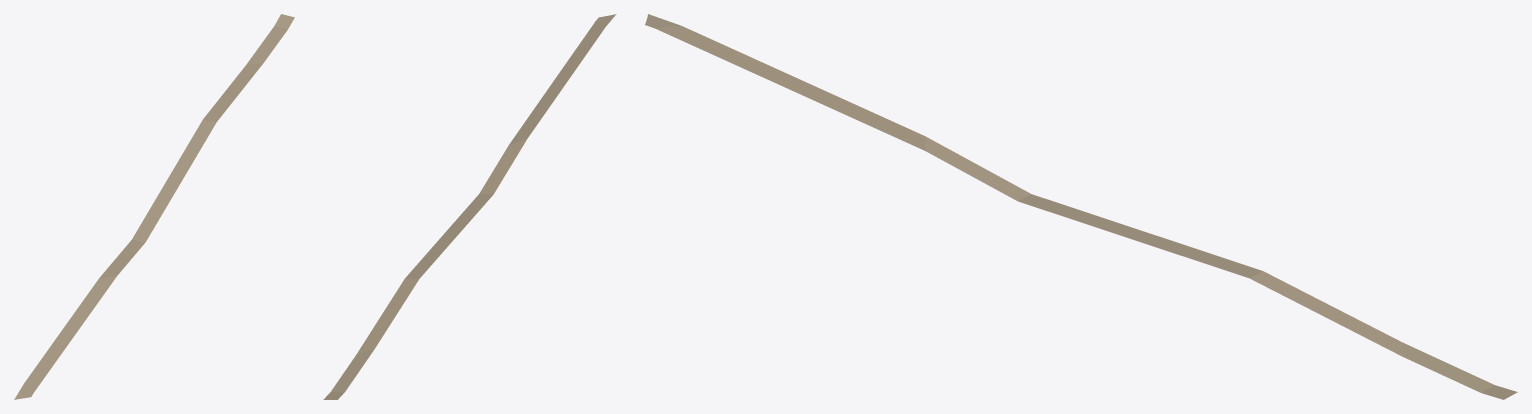
Rendered from farm_3_22_track.glb.
3 renders of one model, left to right at view 1: azimuth 30°, elevation 25°; view 2: azimuth 210°, elevation 25°; view 3: azimuth 270°, elevation 25°, orthographic. The views are drawn at different scales.
Visible parts, largest first — view 1: geometry_0; view 2: geometry_0; view 3: geometry_0.
Part boxes in pixels (x1=…): geometry_0: x1=14, y1=14, x2=294, y2=399; geometry_0: x1=323, y1=14, x2=616, y2=399; geometry_0: x1=645, y1=14, x2=1517, y2=399.
Bounding box in the file's own units: 157 × 5.2 × 146.
